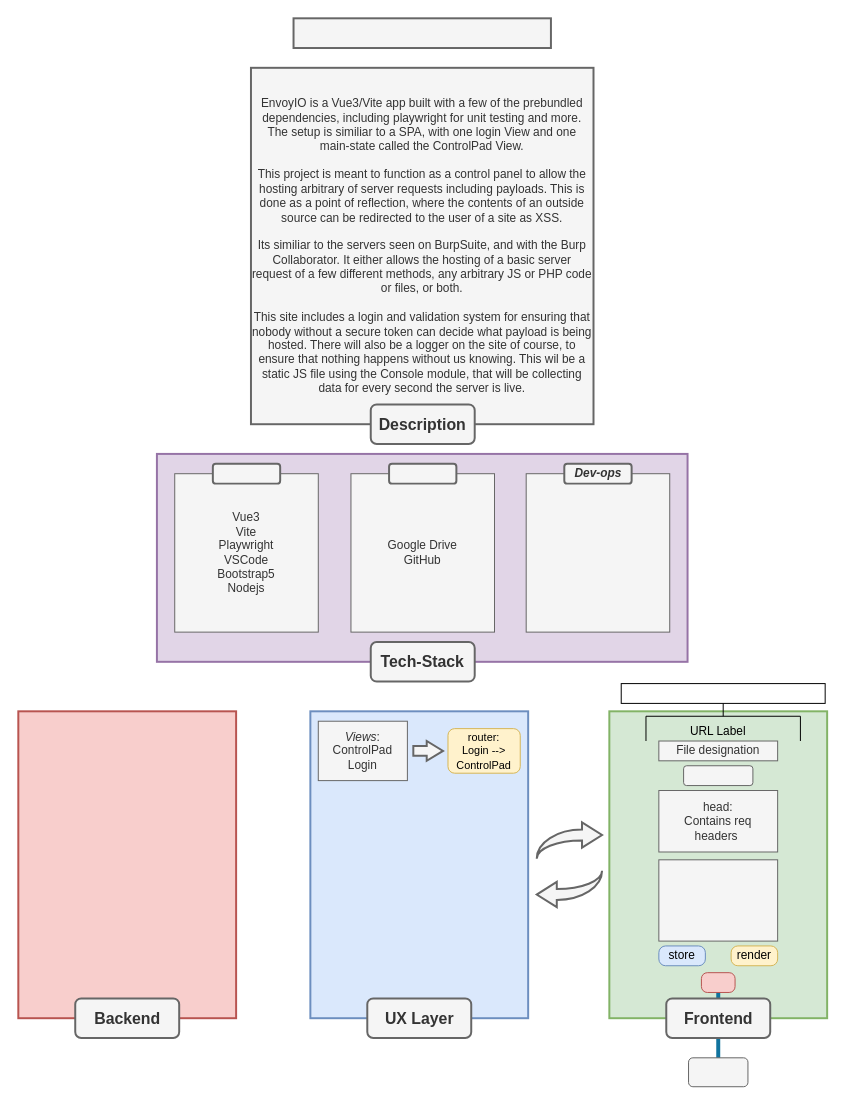
The diagram is 844 pixels wide and 1104 high, and some of its shapes have lost their labels. Here are the shapes that lost their labels. From the top down, the box of each, then its label:
(292, 17, 551, 49): EnvoyIO General Outline
(211, 462, 281, 484): Codebase
(388, 462, 457, 484): Utilities
(525, 473, 670, 632): Firebase ApacheHTTP
(620, 683, 825, 703): The full set of this data is called the: Record
(683, 765, 753, 786): method btn
(658, 859, 778, 941): body: Contains req body/payloads
(688, 1057, 748, 1087): settings tab
